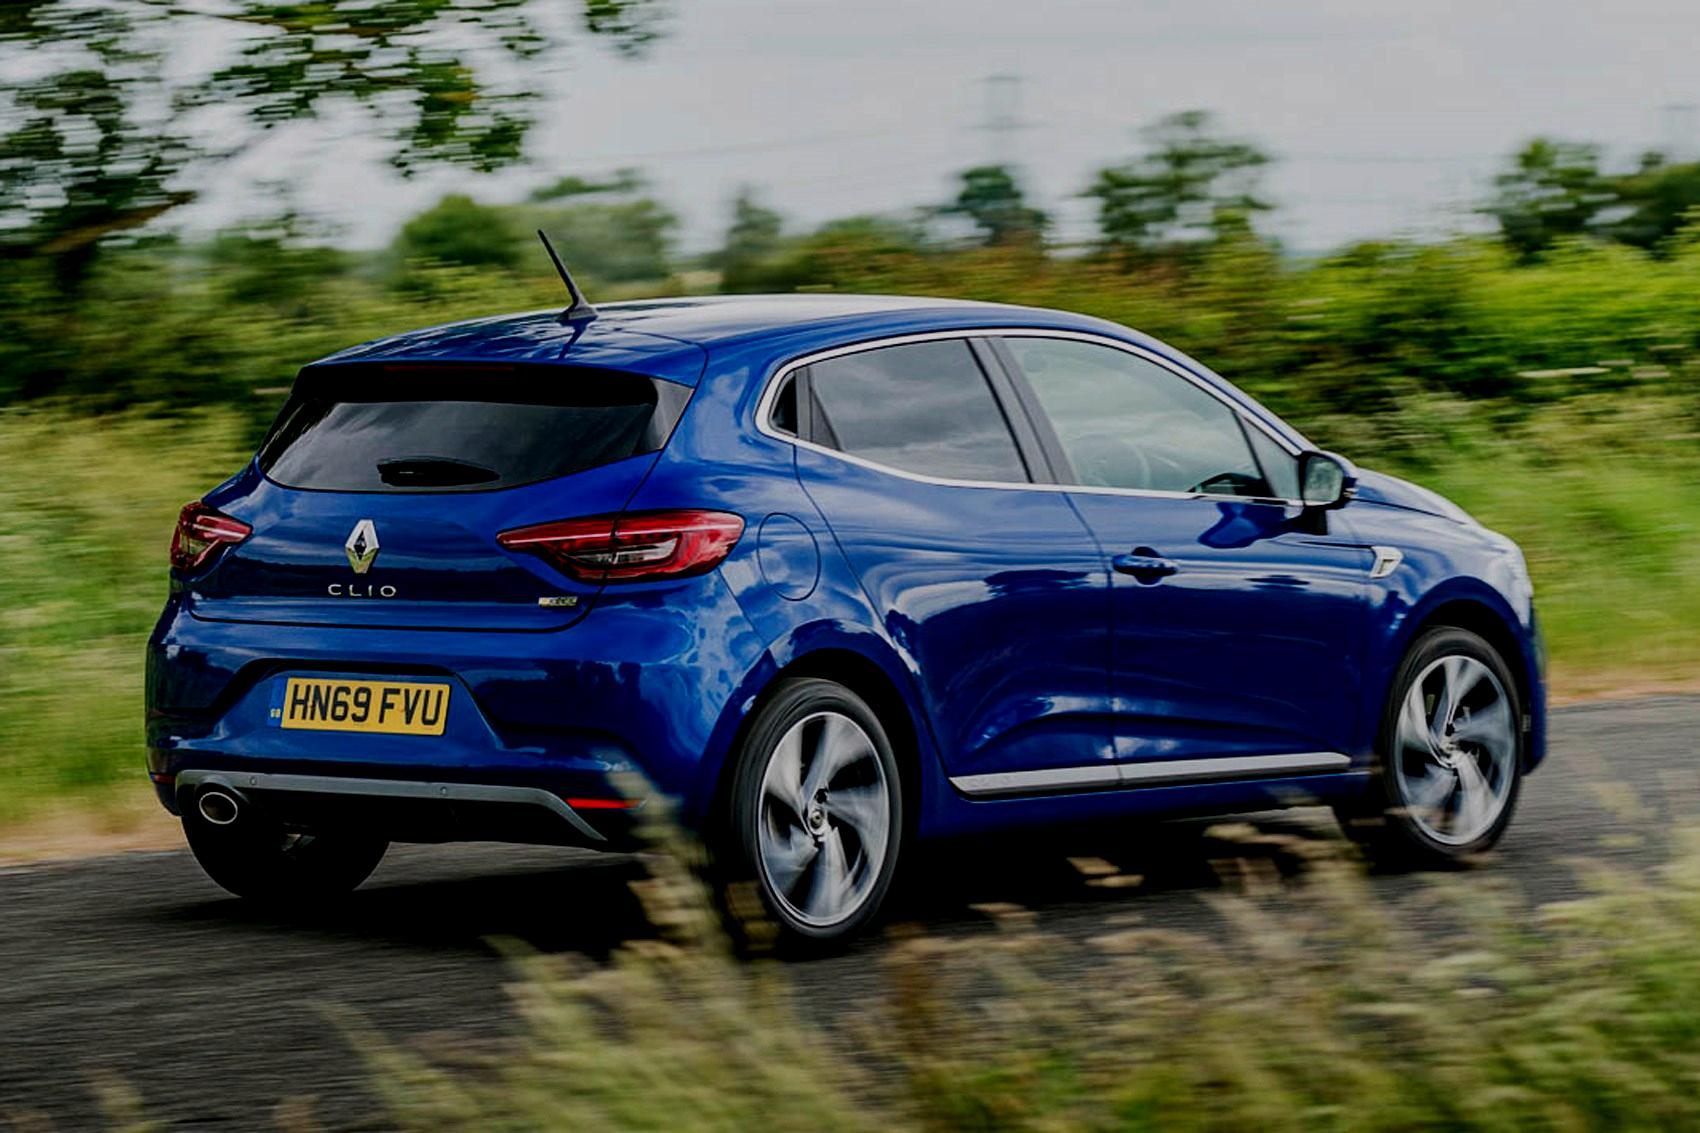Renault: (335, 498, 393, 596)
